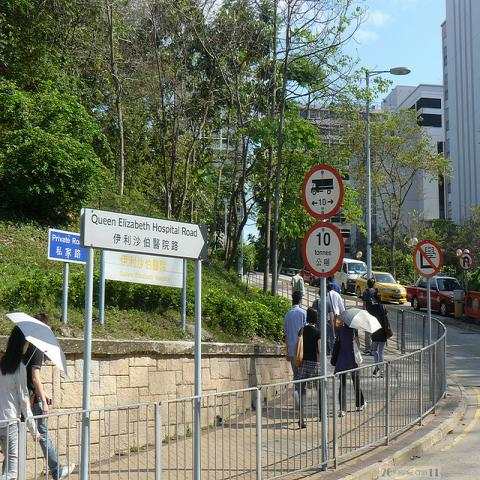car: (355, 271, 408, 304), (333, 258, 366, 294), (300, 264, 334, 286)
truck: (311, 178, 334, 196)
